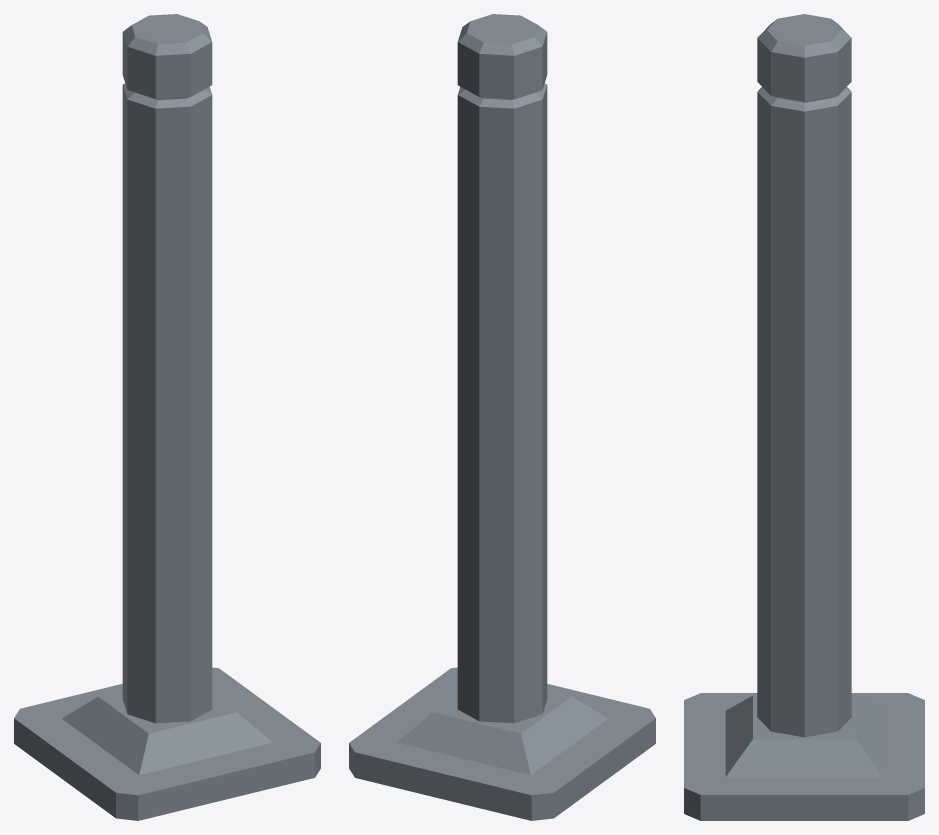
File: SM_Veh_Crane_01_Leg_fr_Shaft.obj
3 renders of one model, left to right at view 1: azimuth 30°, elevation 25°; view 2: azimuth 150°, elevation 25°; view 3: azimuth 270°, elevation 25°, orthographic.
Visible parts, largest first — view 1: SM_Veh_Crane_01_Leg_fr_Shaft_0; view 2: SM_Veh_Crane_01_Leg_fr_Shaft_0; view 3: SM_Veh_Crane_01_Leg_fr_Shaft_0.
Part boxes in pixels (x1,y1,x2,y2): SM_Veh_Crane_01_Leg_fr_Shaft_0: [14, 14, 320, 820]; SM_Veh_Crane_01_Leg_fr_Shaft_0: [349, 14, 655, 820]; SM_Veh_Crane_01_Leg_fr_Shaft_0: [684, 14, 924, 820].
Size of the model in its own units: 0.3764 by 1.28 by 0.3764.
Materials: 1 (1 with a texture image).
